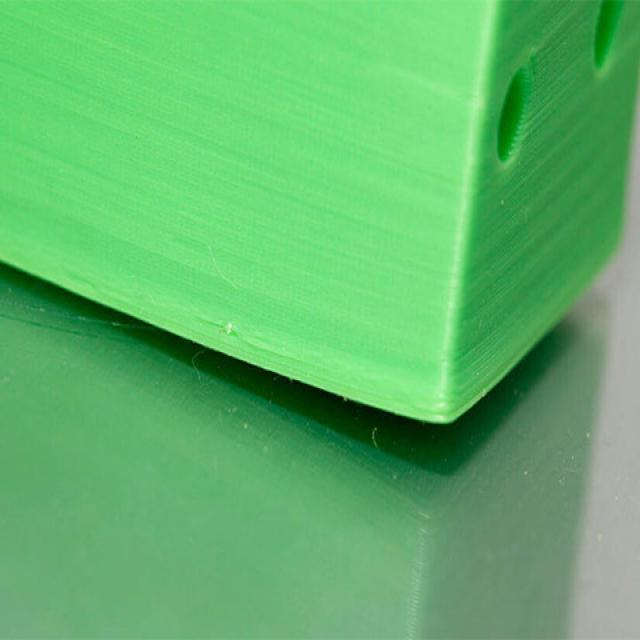Warping: (161, 294, 578, 488)
